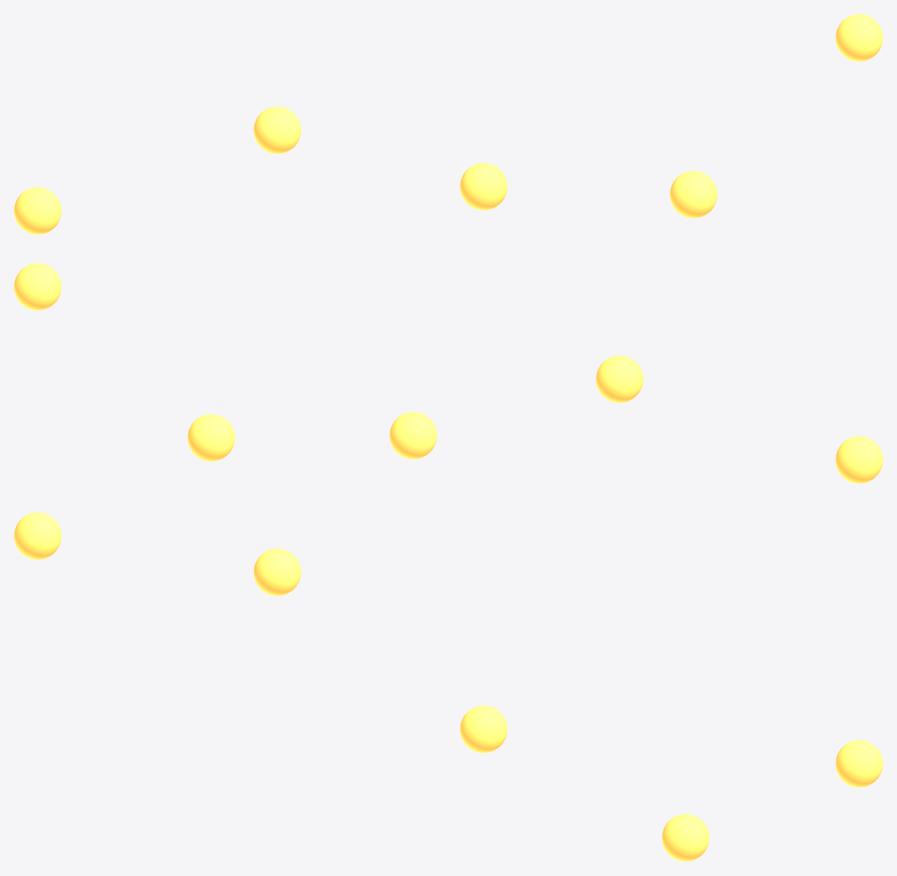
Rendered from PapierLichterkette.fbx.
3 views of the same model, one above another, from view 1: azimuth 30°, elevation 25°; view 2: azimuth 150°, elevation 25°; view 3: azimuth 330°, elevation 25° (orthographic).
Parts seen in each view (by area): view 1: Sphere__5_, Sphere__2_, Sphere__3_, Sphere__1_, Sphere__4_; view 2: Sphere__5_, Sphere__4_, Sphere__2_, Sphere__3_, Sphere__1_; view 3: Sphere__4_, Sphere__3_, Sphere__5_, Sphere__2_, Sphere__1_.
Part boxes in pixels (left/top/right/bottom): Sphere__5_: left=835, top=14, right=882, bottom=61; Sphere__2_: left=460, top=163, right=507, bottom=210; Sphere__3_: left=14, top=187, right=61, bottom=234; Sphere__1_: left=253, top=106, right=300, bottom=153; Sphere__4_: left=670, top=171, right=717, bottom=218; Sphere__5_: left=14, top=263, right=61, bottom=310; Sphere__4_: left=187, top=414, right=234, bottom=461; Sphere__2_: left=389, top=412, right=436, bottom=459; Sphere__3_: left=835, top=436, right=882, bottom=483; Sphere__1_: left=596, top=355, right=643, bottom=402; Sphere__4_: left=662, top=814, right=709, bottom=861; Sphere__3_: left=14, top=512, right=61, bottom=559; Sphere__5_: left=835, top=740, right=882, bottom=787; Sphere__2_: left=460, top=705, right=507, bottom=752; Sphere__1_: left=253, top=548, right=300, bottom=595.
Bounding box in the file's own units: 251 × 57.1 × 14.
